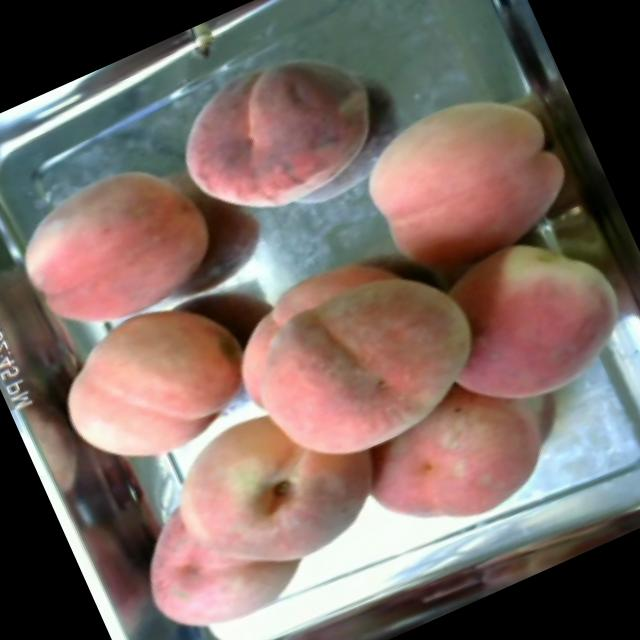Fruit: (195, 206, 520, 507), (77, 359, 423, 640), (334, 60, 598, 308), (150, 19, 408, 250), (398, 199, 640, 442), (28, 272, 282, 502), (0, 137, 239, 358), (334, 350, 574, 566)
